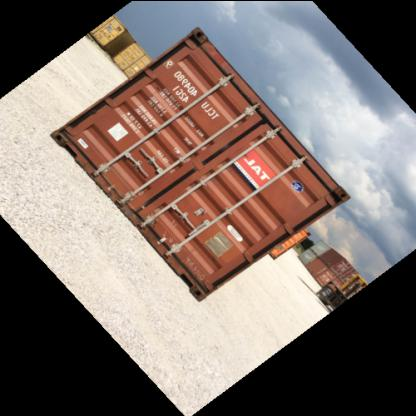Damage: (127, 186, 157, 216)
